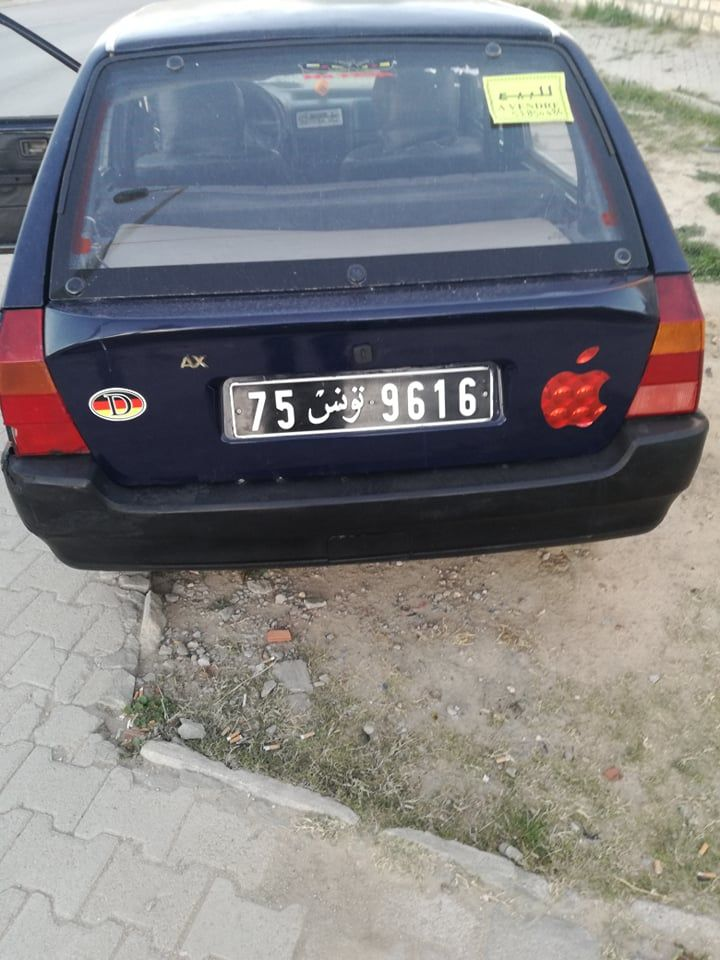LP: (231, 368, 497, 439)
